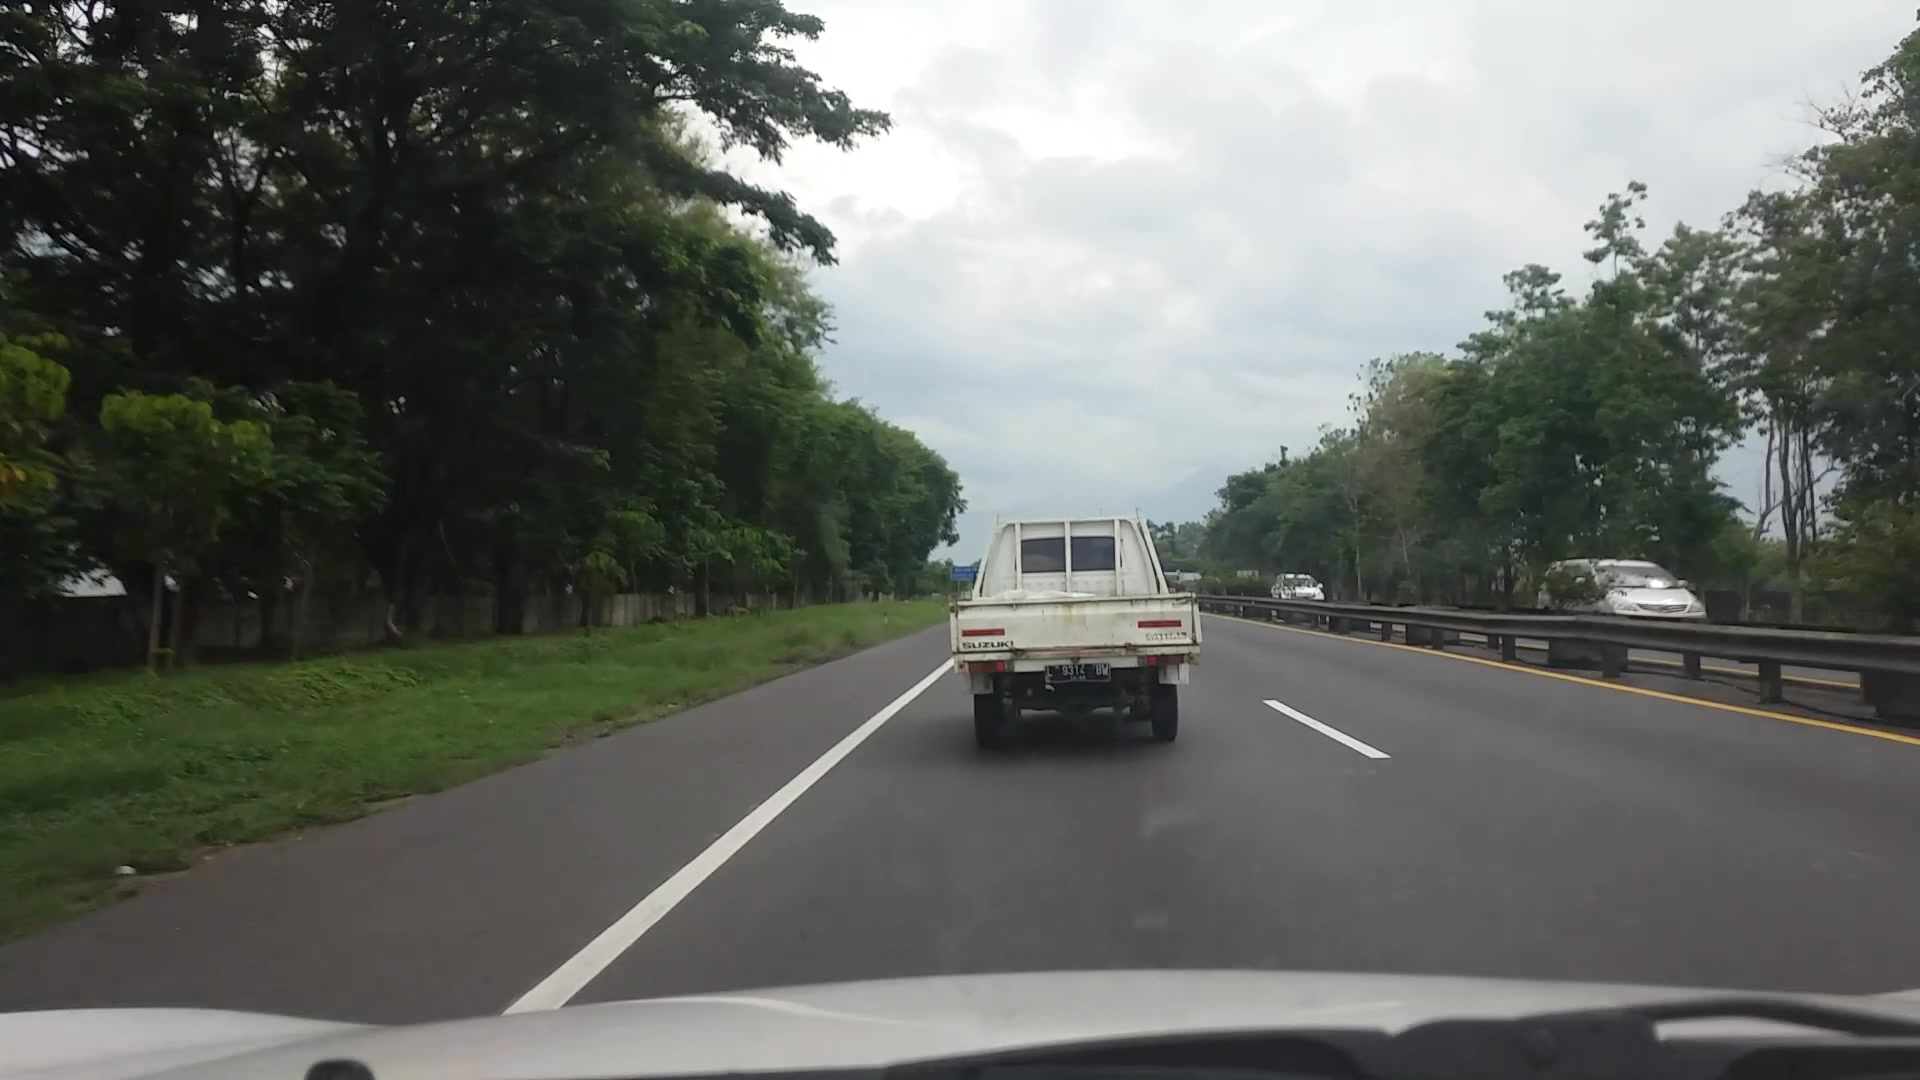plate_positive: (1044, 663, 1110, 683)
